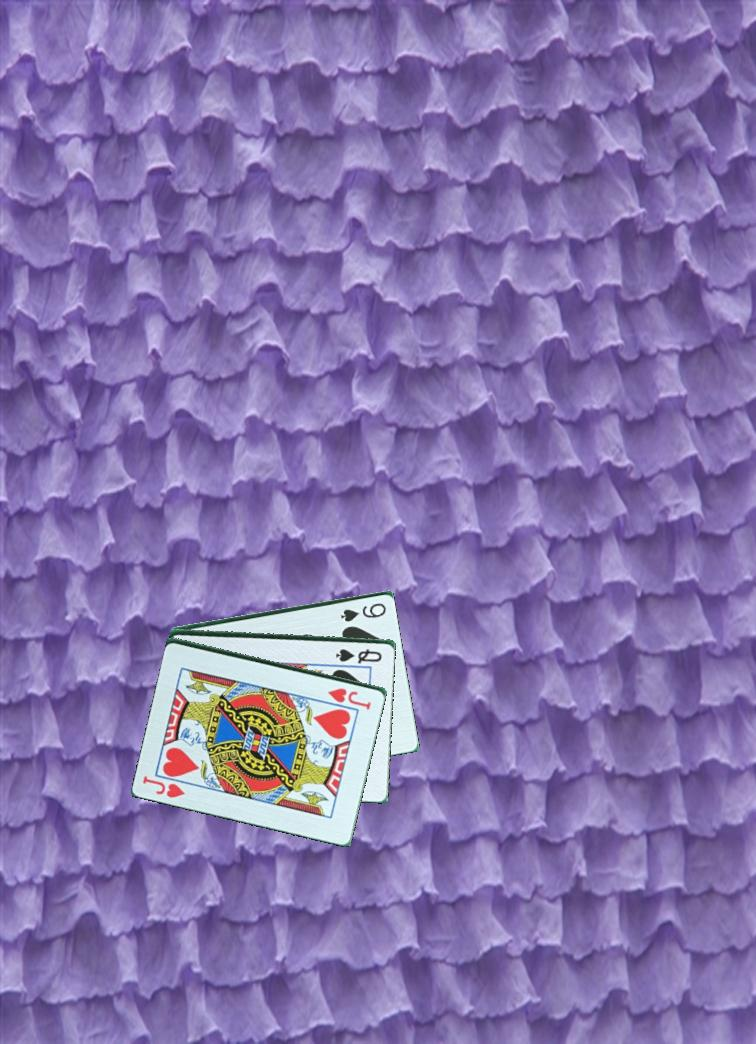9s: (337, 599, 389, 623)
jh: (139, 772, 189, 800), (324, 684, 374, 710)
qs: (333, 645, 385, 664)
